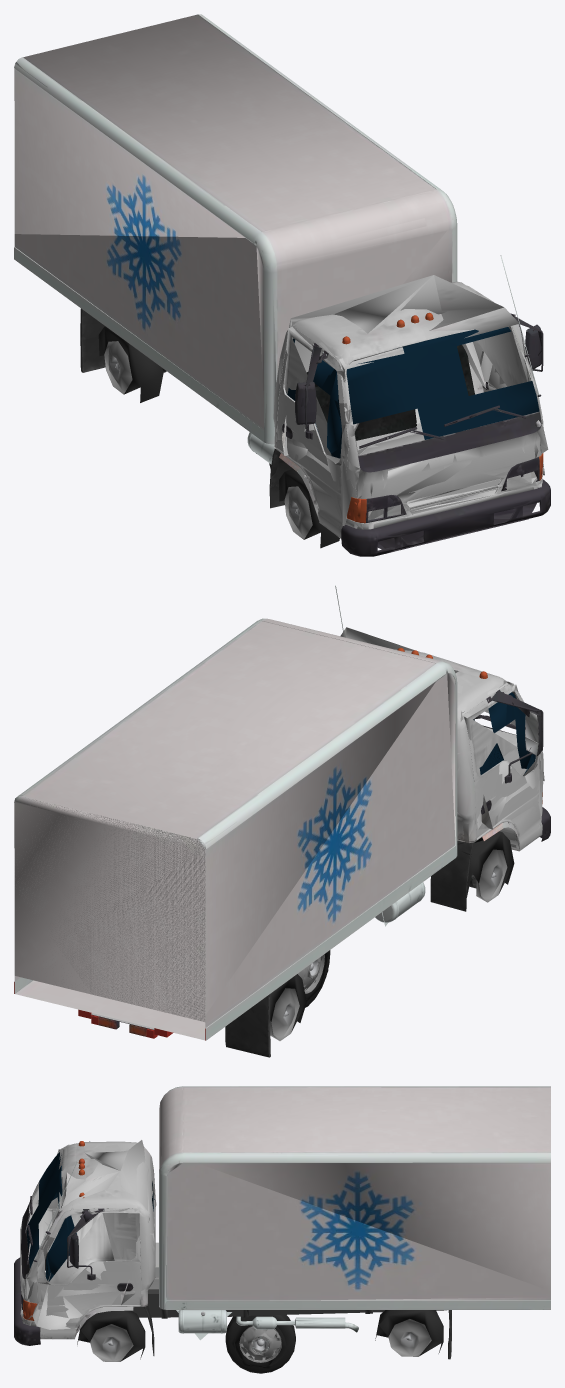
Rendered from truck3.glb.
3 views of the same model, one above another, from view 1: azimuth 30°, elevation 25°; view 2: azimuth 150°, elevation 25°; view 3: azimuth 270°, elevation 25° (orthographic). The views are drawn at different scales.
Parts seen in each view (by area): view 1: body0, body1, body2; view 2: body1, body0, body2, wheel1; view 3: body1, body0, body2, wheel0, wheel1.
Boxes of the visible parts, bbox=[...] form: body0: bbox=[14, 14, 550, 556]; body1: bbox=[14, 14, 550, 556]; body2: bbox=[98, 275, 548, 552]; body1: bbox=[14, 586, 550, 1057]; body0: bbox=[14, 585, 550, 1057]; body2: bbox=[270, 627, 544, 1040]; wheel1: bbox=[303, 950, 330, 1007]; body1: bbox=[14, 1087, 550, 1355]; body0: bbox=[14, 1086, 550, 1359]; body2: bbox=[20, 1140, 443, 1361]; wheel0: bbox=[225, 1315, 295, 1373]; wheel1: bbox=[226, 1315, 295, 1373].
Size of the model in its own units: 2.68 by 3.4 by 6.6.
Materials: 4 (1 with a texture image).
